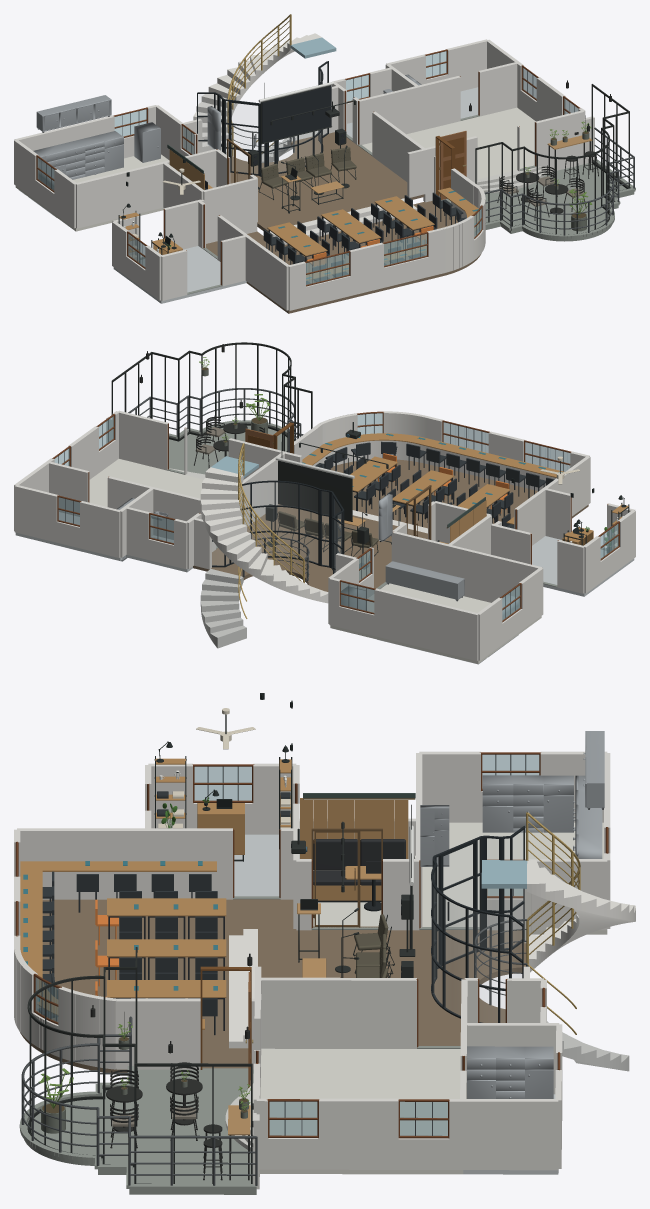
Rendered from ground-floor.glb.
3 renders of one model, top to bottom at view 1: azimuth 30°, elevation 25°; view 2: azimuth 150°, elevation 25°; view 3: azimuth 270°, elevation 25°, orthographic. The views are drawn at different scales.
Visible parts, largest first — view 1: Ground Floor - Planning Base 08 | joined wall display | web, GF-09 | floor | web, GF-08 | floor | web, GF-01 | floor | web, GF-10 | floor | web, PB04 | Corrected Ground Floor | storage_cabinet_mid5_F1_0 | , P02 | GF09-SC1 projection surface | web, PB04 | Ground Floor - continuous UP flight | web, GF-02 | floor | web, PB04 | Corrected Ground Floor | storage_cabinet_low4_F1_0 | , A flat door glass | web, A continuous glazing right | web (+11 smaller); view 2: Ground Floor - Planning Base 08 | joined wall display | web, GF-09 | floor | web, PB04 | Ground Floor - continuous UP flight | web, A continuous glazing right | web, GF-10 | floor | web, P02 | GF09-SC1 black border | web, PB04 | Ground Floor - incoming last 7 steps only | web, GF-01 | floor | web, GF10 S07 | PROPOSED_Continuous_counter_top | web, PB04 | Corrected Ground Floor | storage_cabinet_low4_F1_0 | , GF-08 | floor | web, GF-04 | floor | web (+7 smaller); view 3: Ground Floor - Planning Base 08 | joined wall display | web, GF-08 | floor | web, GF-01 | floor | web, GF-09 | floor | web, GF-10 | floor | web, A continuous glazing right | web, GF-04 | floor | web, PB04 | Corrected Ground Floor | storage_cabinet_mid3_F1_2 | , PB04 | Corrected Ground Floor | storage_cabinet_mid3_F1_1 | , GF10 S07 | PROPOSED_Continuous_counter_top | web, PB04 | Ground Floor - continuous UP flight | web, GF-02 | floor | web (+29 smaller).
Boxes of the visible parts, x1,y1,x2,y2 form: Ground Floor - Planning Base 08 | joined wall display | web: (14, 39, 594, 310); GF-09 | floor | web: (230, 132, 424, 231); GF-08 | floor | web: (441, 162, 634, 241); GF-01 | floor | web: (362, 107, 535, 179); GF-10 | floor | web: (206, 201, 481, 313); PB04 | Corrected Ground Floor | storage_cabinet_mid5_F1_0 | : (19, 131, 123, 195); P02 | GF09-SC1 projection surface | web: (262, 86, 331, 142); PB04 | Ground Floor - continuous UP flight | web: (193, 33, 321, 155); GF-02 | floor | web: (113, 246, 246, 303); PB04 | Corrected Ground Floor | storage_cabinet_low4_F1_0 | : (36, 95, 111, 132); A flat door glass | web: (232, 103, 257, 173); A continuous glazing right | web: (262, 64, 327, 171); Ground Floor - Planning Base 08 | joined wall display | web: (14, 410, 635, 660); GF-09 | floor | web: (193, 504, 427, 591); PB04 | Ground Floor - continuous UP flight | web: (200, 467, 328, 603); A continuous glazing right | web: (212, 483, 328, 565); GF-10 | floor | web: (330, 459, 588, 528); P02 | GF09-SC1 black border | web: (278, 460, 352, 521); PB04 | Ground Floor - incoming last 7 steps only | web: (200, 569, 246, 648); GF-01 | floor | web: (89, 459, 203, 506); GF10 S07 | PROPOSED_Continuous_counter_top | web: (302, 433, 564, 524); PB04 | Corrected Ground Floor | storage_cabinet_low4_F1_0 | : (385, 561, 464, 601); GF-08 | floor | web: (169, 425, 287, 474); GF-04 | floor | web: (330, 583, 541, 663); Ground Floor - Planning Base 08 | joined wall display | web: (14, 751, 610, 1189); GF-08 | floor | web: (24, 1068, 256, 1194); GF-01 | floor | web: (259, 1048, 463, 1174); GF-09 | floor | web: (258, 929, 526, 1045); GF-10 | floor | web: (20, 899, 293, 1072); A continuous glazing right | web: (433, 857, 521, 1022); GF-04 | floor | web: (422, 822, 607, 934); PB04 | Corrected Ground Floor | storage_cabinet_mid3_F1_2 | : (482, 775, 573, 832); PB04 | Corrected Ground Floor | storage_cabinet_mid3_F1_1 | : (467, 1046, 553, 1098); GF10 S07 | PROPOSED_Continuous_counter_top | web: (20, 861, 216, 1029); PB04 | Ground Floor - continuous UP flight | web: (527, 860, 635, 972); GF-02 | floor | web: (234, 834, 279, 896).
Bounding box in the file's own units: 16.27 × 5.62 × 11.93.
